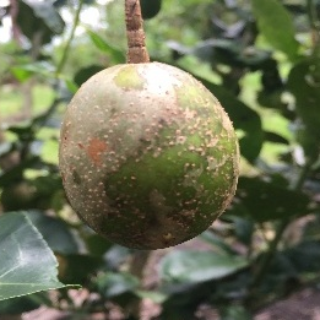coc: (59, 59, 237, 250)
